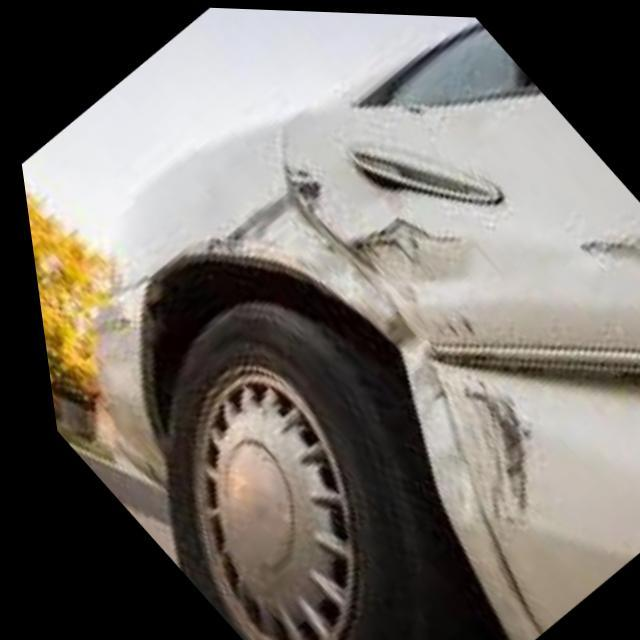crack: (183, 134, 640, 551)
